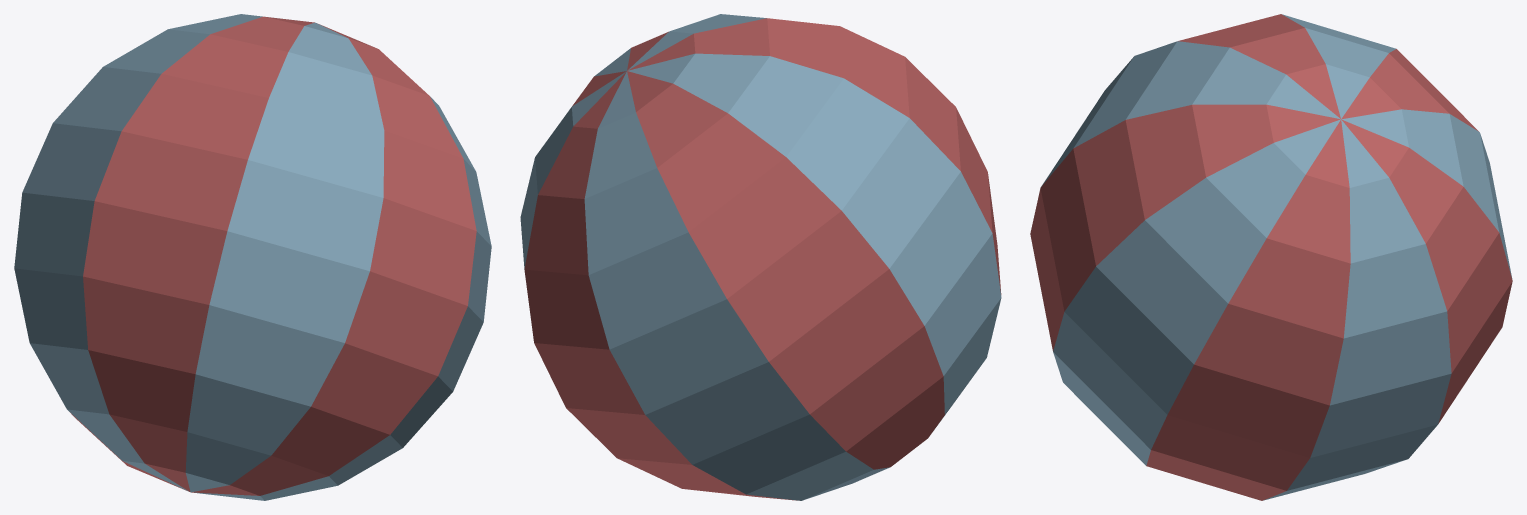
Rendered from Ball_3.fbx.
The picture shows the model from 3 angles, left to right: view 1: azimuth 30°, elevation 25°; view 2: azimuth 150°, elevation 25°; view 3: azimuth 270°, elevation 25°; orthographic projection.
Parts seen in each view (by area): view 1: Ball_3; view 2: Ball_3; view 3: Ball_3.
Boxes of the visible parts, box(x1,y1,x2,y2) form: Ball_3: box(14, 14, 491, 500); Ball_3: box(520, 14, 1001, 500); Ball_3: box(1030, 14, 1512, 500).
Bounding box in the file's own units: 16.94 × 17.55 × 17.42.
